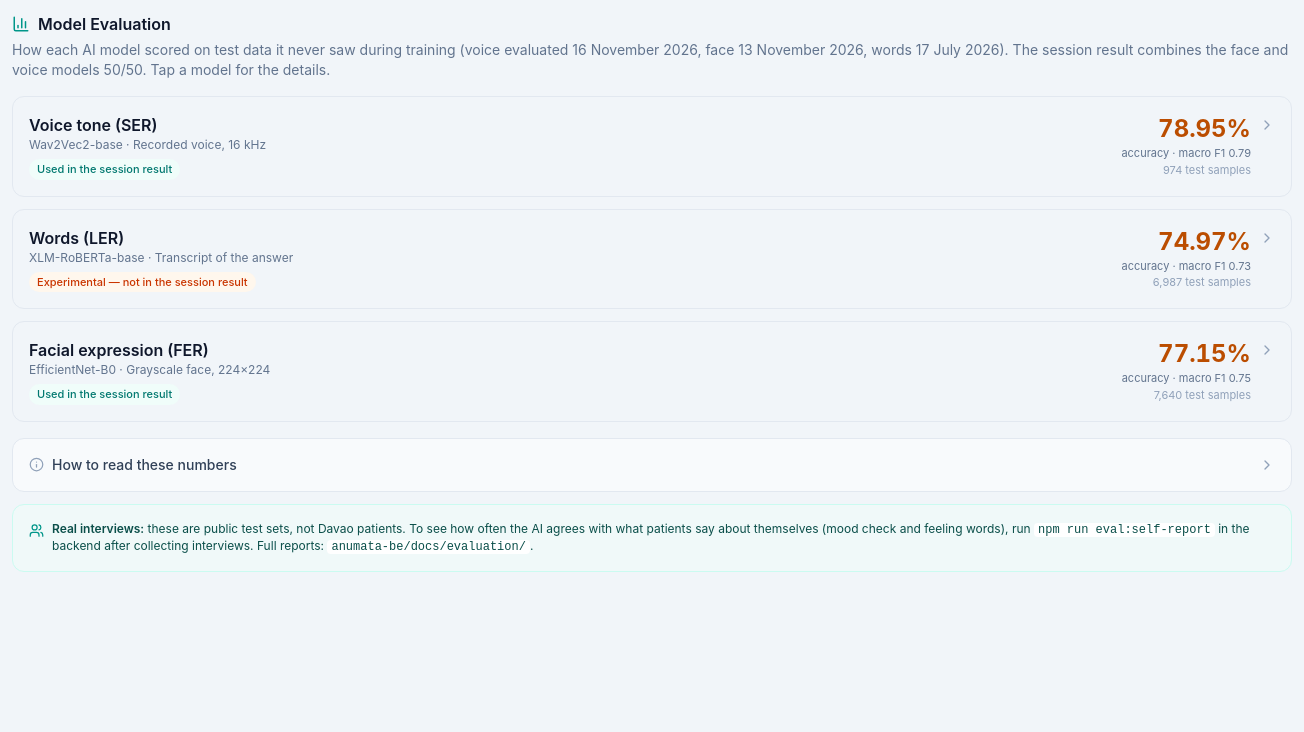
Test: ModelEvaluation panel › explains the terms on request
Step 1. Click the button "How to read these numbers" → (144, 464), box [29, 454, 1275, 474]
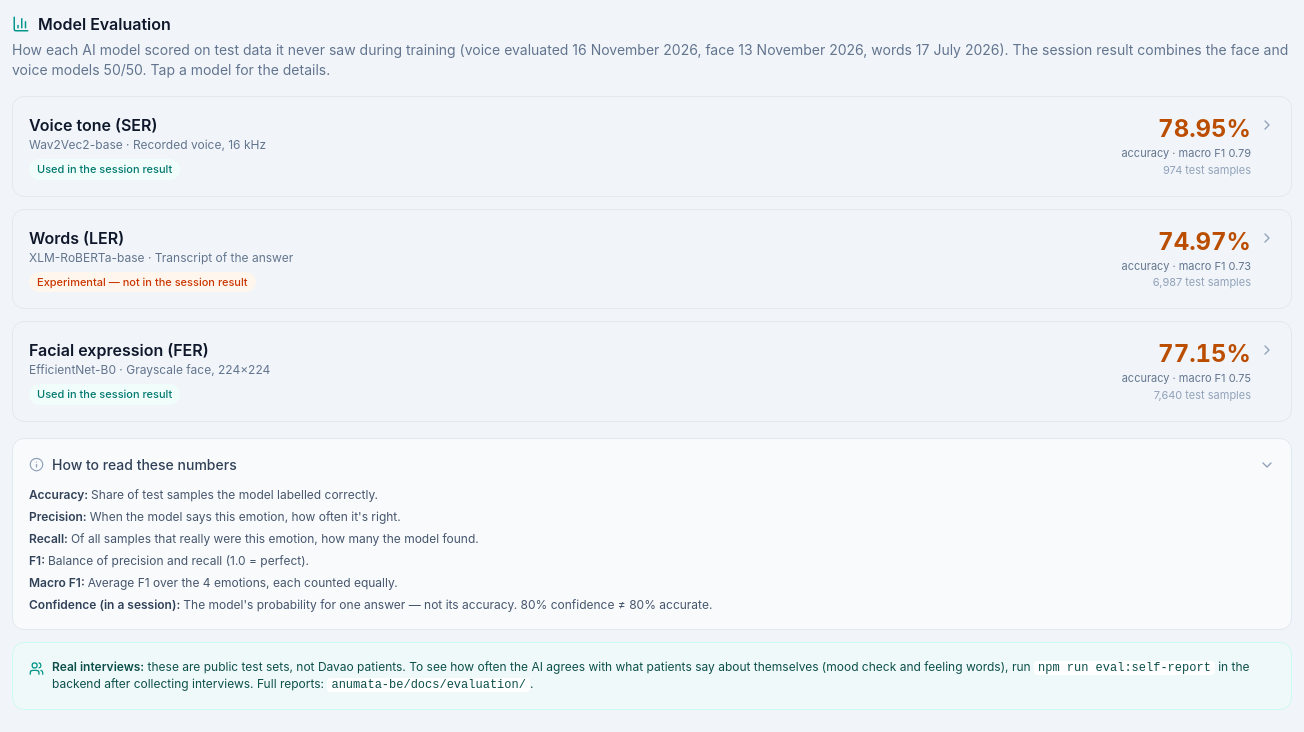
Expected: the text "80% confidence ≠ 80% accurate" is shown, [183, 596, 712, 612]
